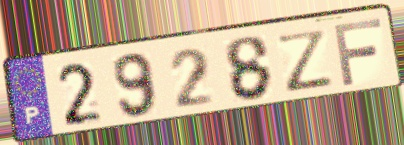2: (55, 61, 106, 128), (168, 45, 216, 111)
8: (222, 35, 276, 103)
9: (111, 50, 160, 120)
F: (331, 16, 386, 89)
Z: (273, 26, 336, 94)
